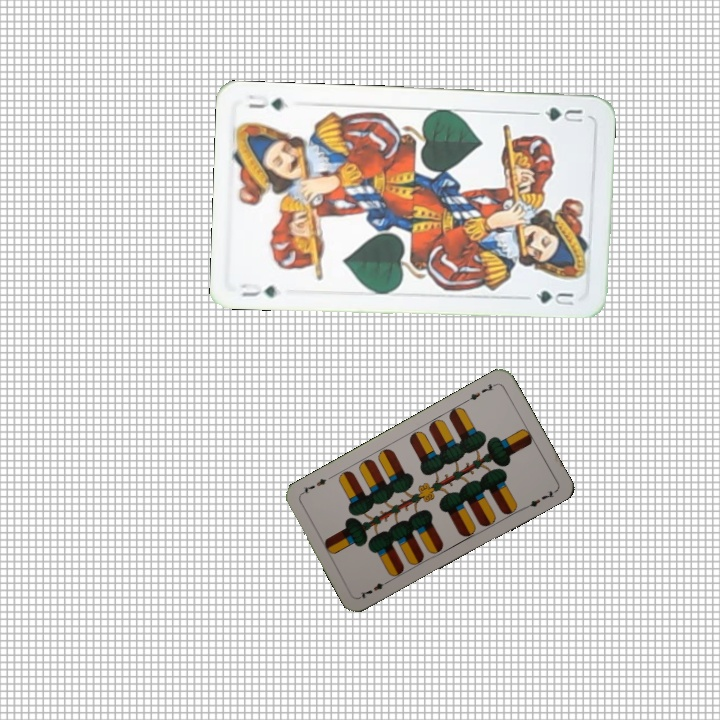E7: (462, 379, 499, 404), (356, 576, 393, 601)
GU: (237, 279, 284, 301), (540, 103, 585, 125)
